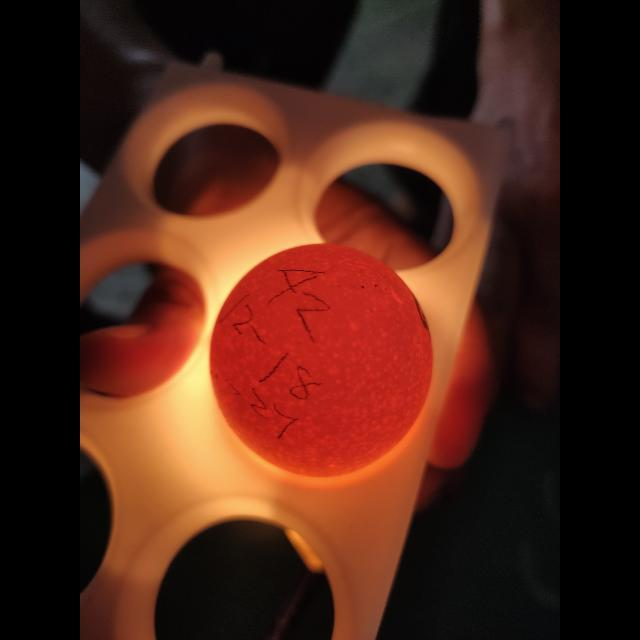Infertile: (204, 235, 436, 488)
